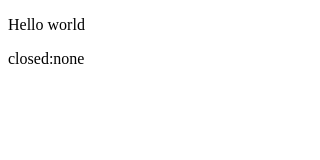
Test: auto-open › suppresses auto-open for a touch gesture
Press the mouse on the text "Hello world": point(46, 24) x1=8 y1=16 x2=85 y2=33
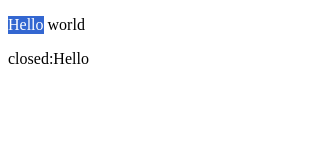
expect the text with test id "state" reads "closed:Hello": met, box x1=8 y1=50 x2=89 y2=67
Press the mouse on the text "Hello world": point(46, 24) x1=8 y1=16 x2=85 y2=33
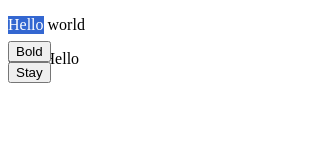
expect the text with test id "state" reads "open:Hello": met, box x1=8 y1=50 x2=79 y2=67
